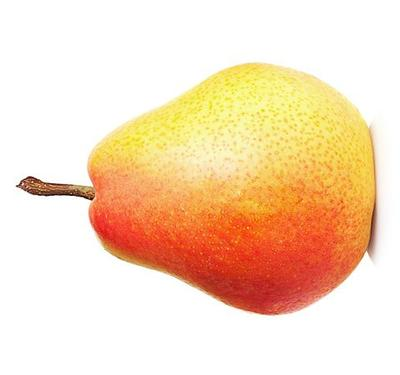pear: (0, 0, 400, 375)
